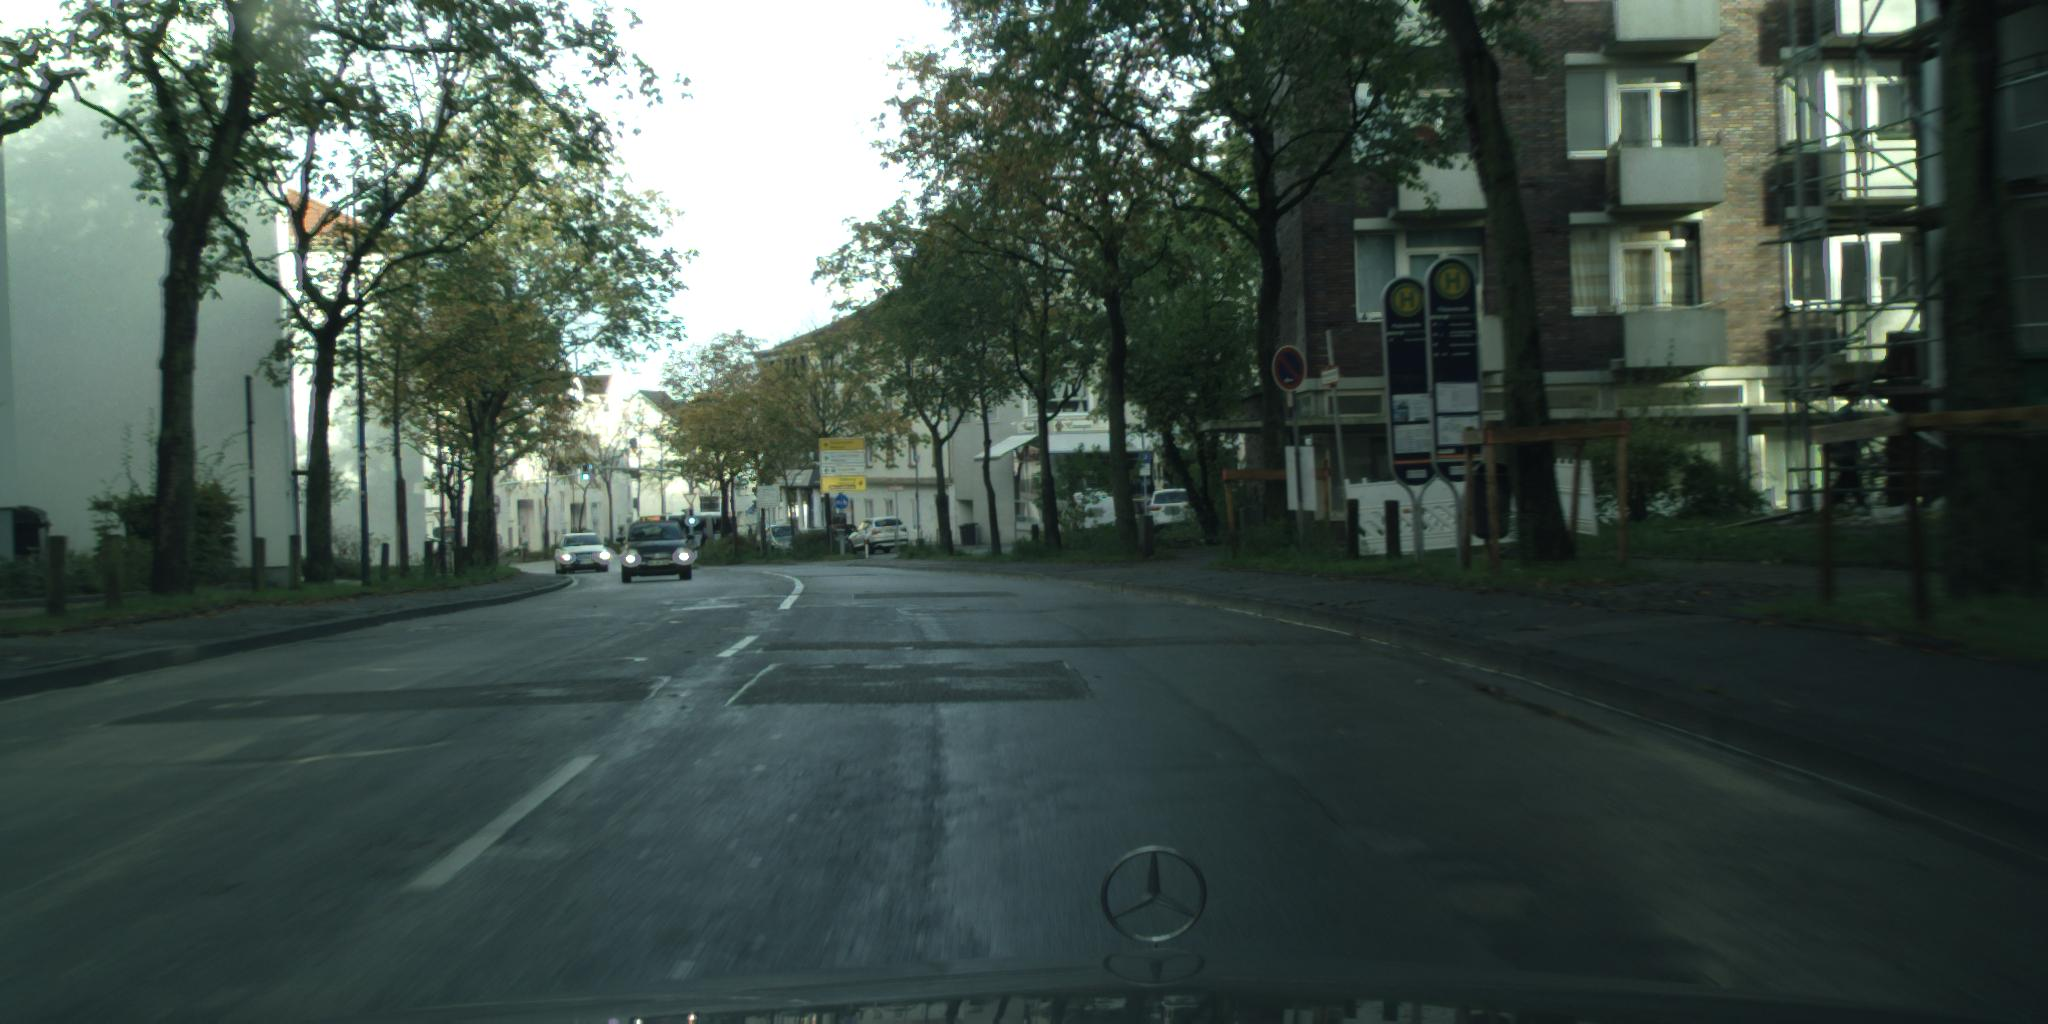bus: (637, 517, 738, 555)
car: (618, 521, 697, 583), (1147, 488, 1203, 539), (554, 534, 618, 573), (846, 517, 910, 554), (765, 525, 806, 552), (829, 525, 866, 545)
